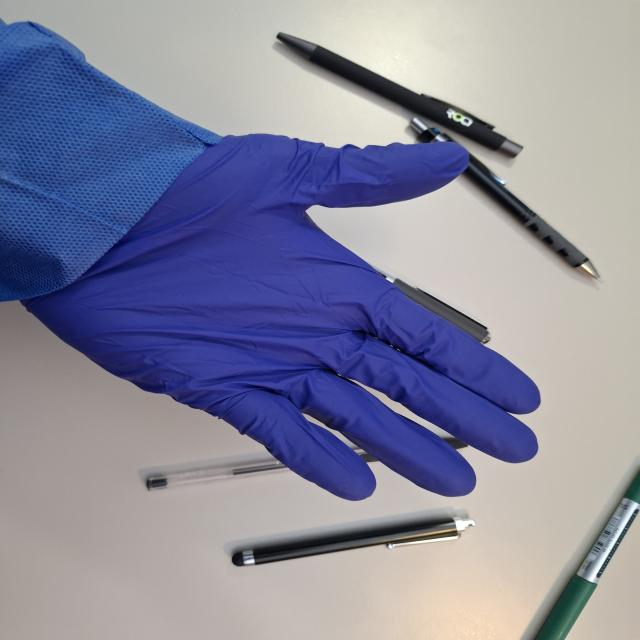glove_on: (17, 128, 545, 505)
